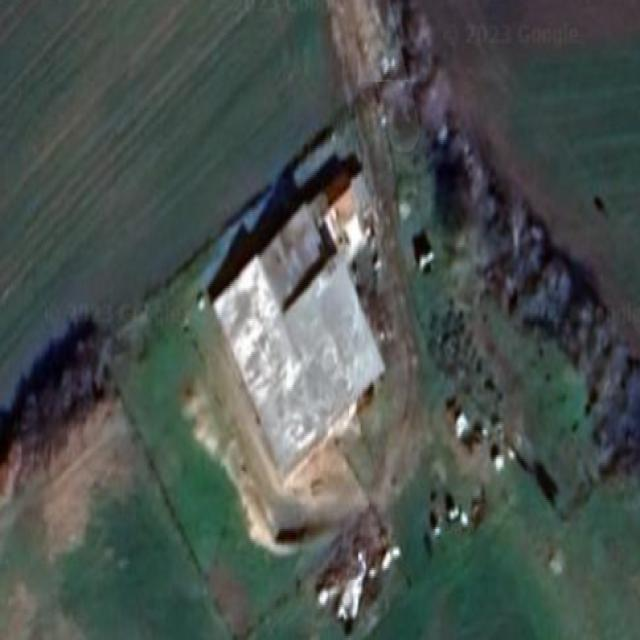Batiment: (214, 195, 384, 472)
